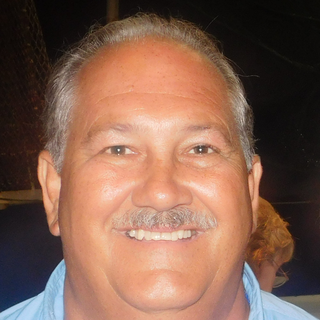eye: (87, 138, 144, 161), (180, 138, 224, 161)
